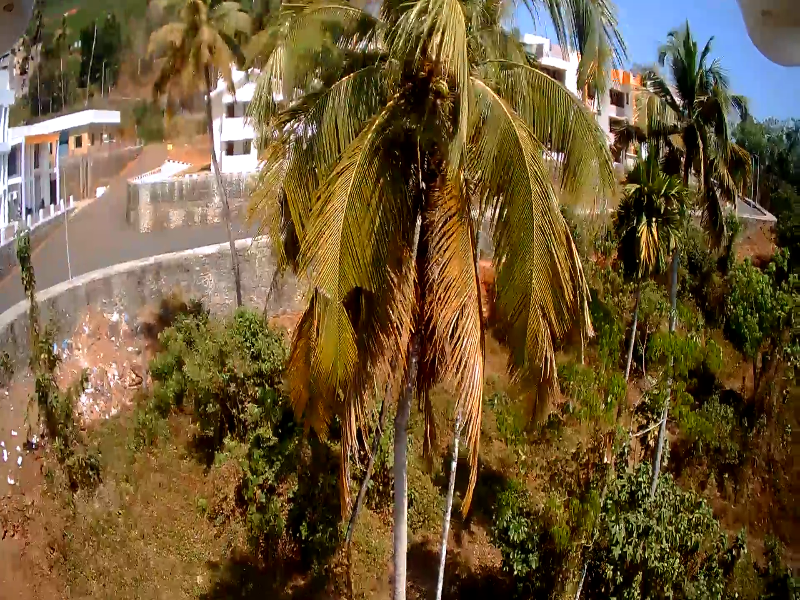coconut: (428, 73, 448, 102)
